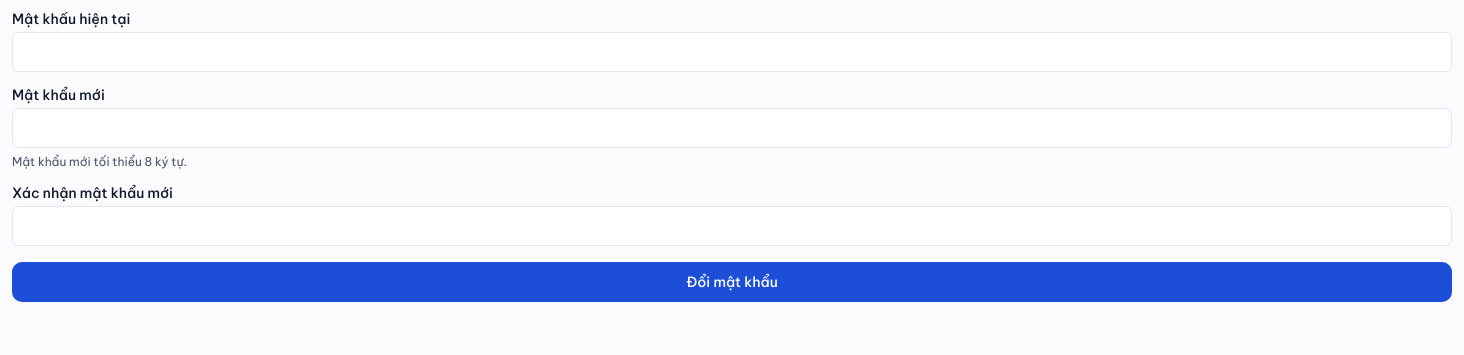
Test case: ChangePasswordForm › submits the current + new password and shows success
In the password field labelled "Mật khẩu hiện tại": [732, 52] box [12, 32, 1452, 72], type "OldPass2024"
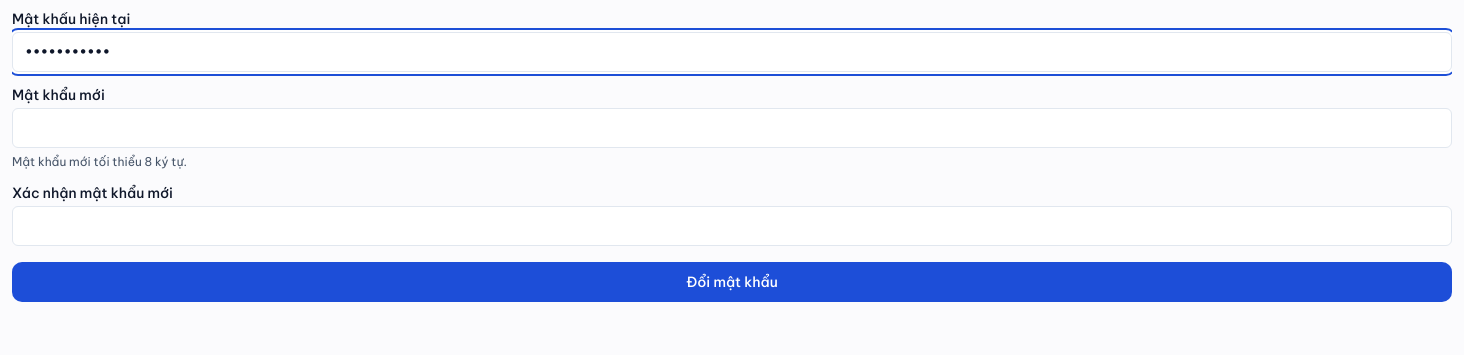
In the password field labelled "Mật khẩu mới": [732, 128] box [12, 108, 1452, 148], type "NewPass2024"
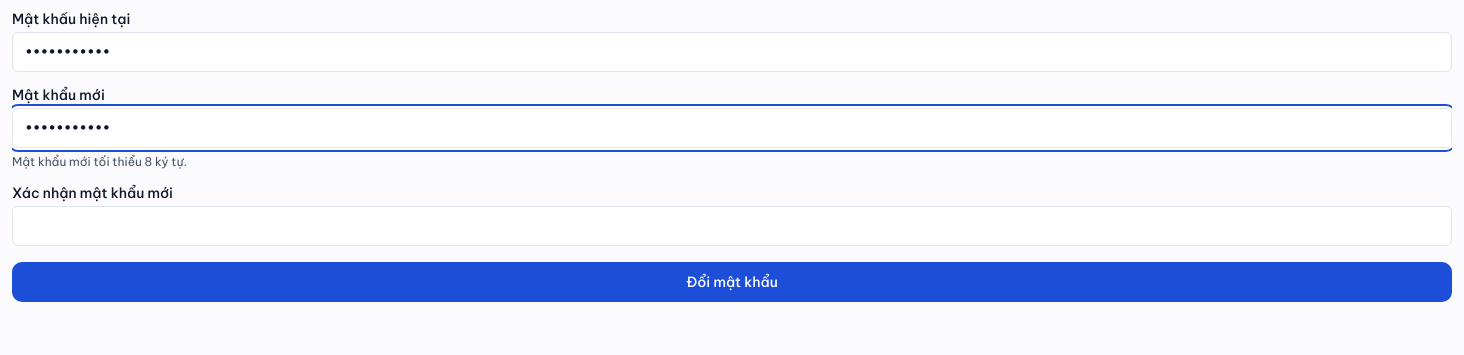
In the password field labelled "Xác nhận mật khẩu mới": [732, 226] box [12, 206, 1452, 246], type "NewPass2024"
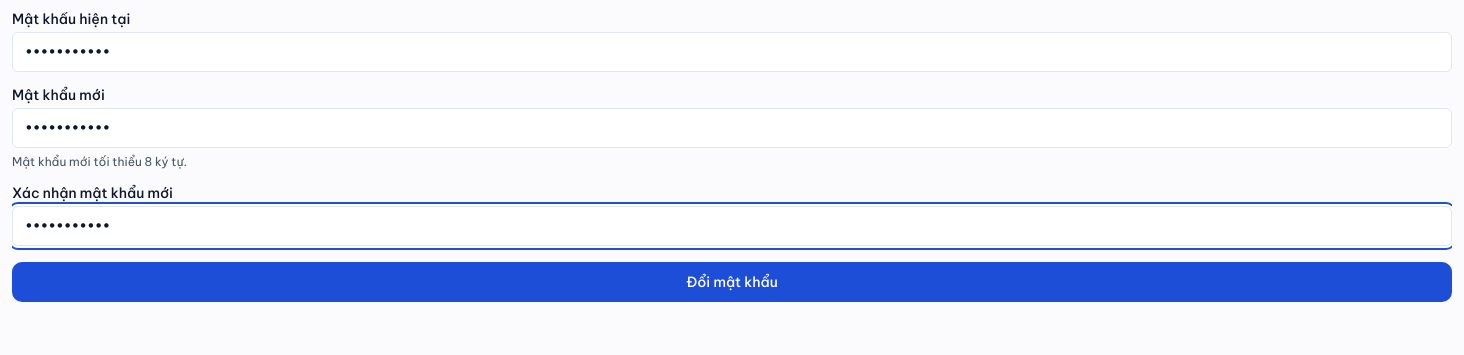
Click the button "Đổi mật khẩu": [732, 282] box [12, 262, 1452, 302]
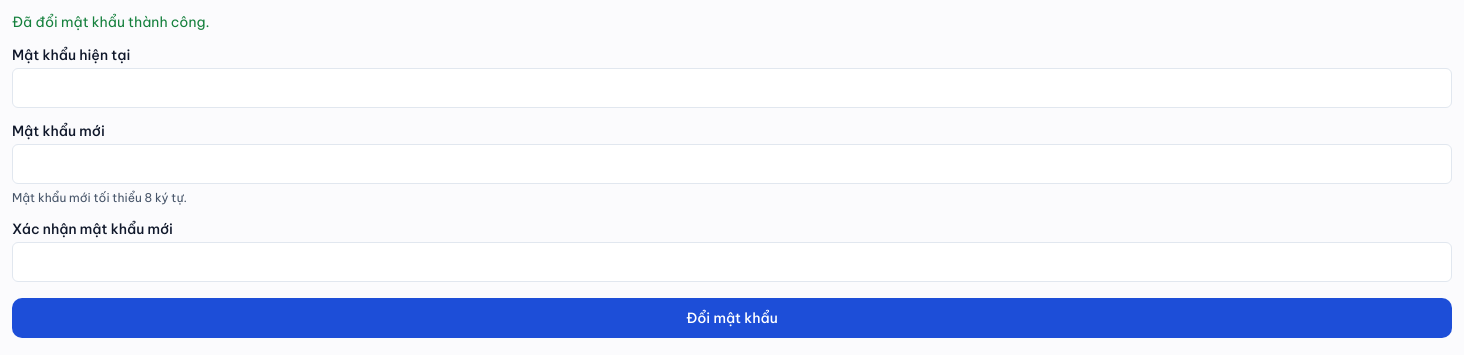
Expected: the text "Đã đổi mật khẩu thành công." is shown, [12, 13, 210, 31]
